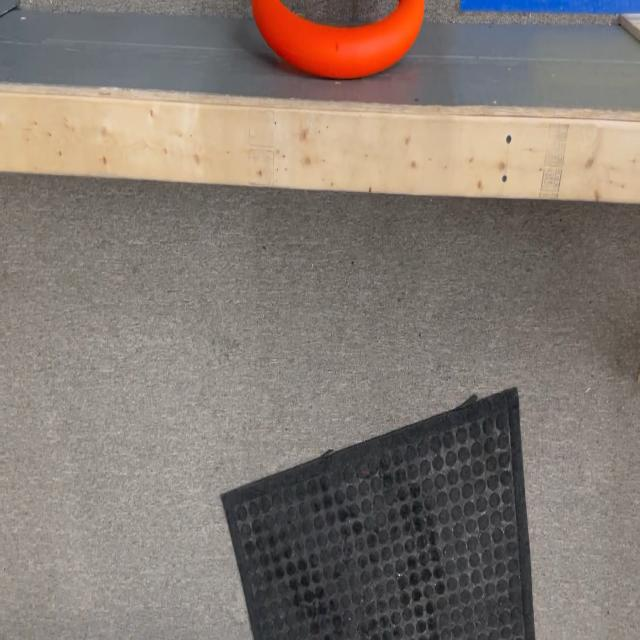note: (243, 0, 429, 74)
